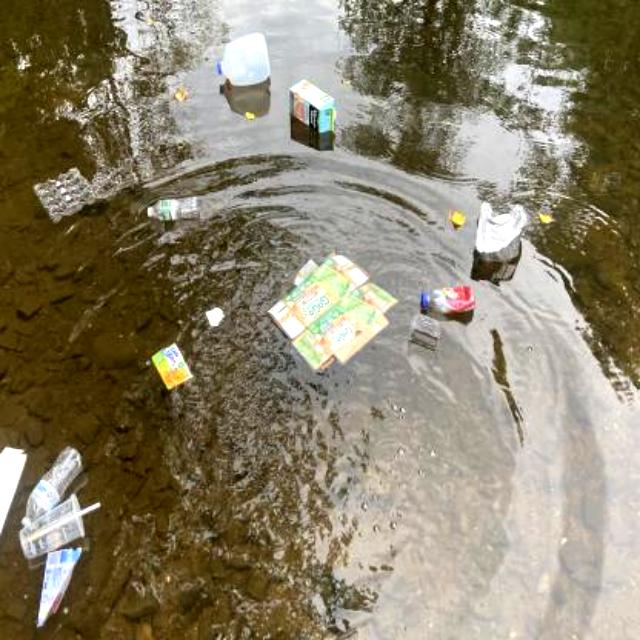Cardboard: (263, 248, 401, 380), (286, 76, 338, 136), (148, 338, 194, 392)
Paper: (0, 442, 30, 534), (203, 302, 227, 331)
Plastic: (20, 440, 104, 548), (30, 162, 99, 224), (36, 544, 82, 630), (216, 29, 272, 90), (472, 196, 528, 256), (418, 284, 478, 316), (142, 193, 202, 223)
